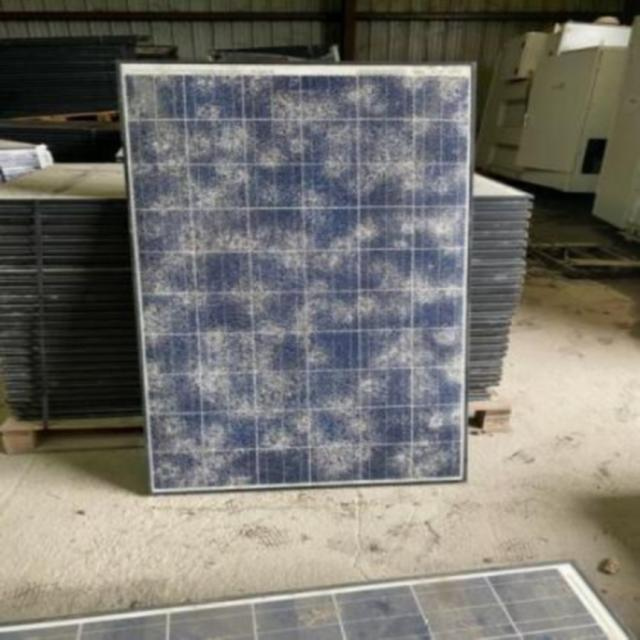soiled: (116, 58, 474, 491), (17, 567, 614, 640)
